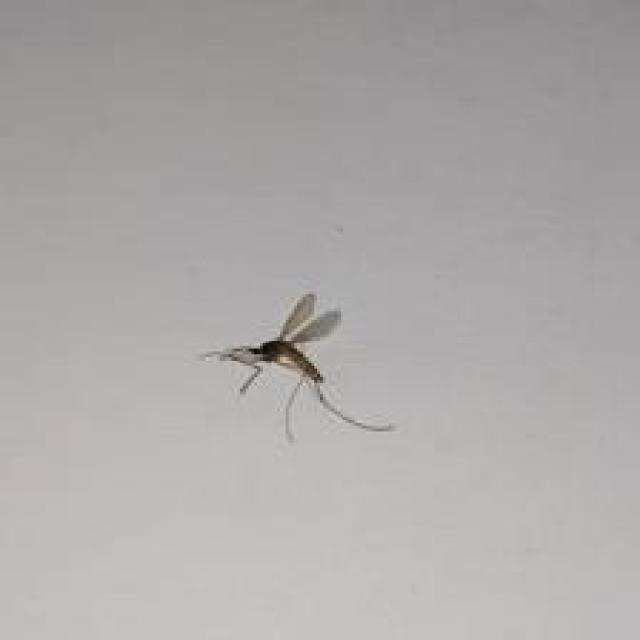Culex: (198, 291, 396, 443)
